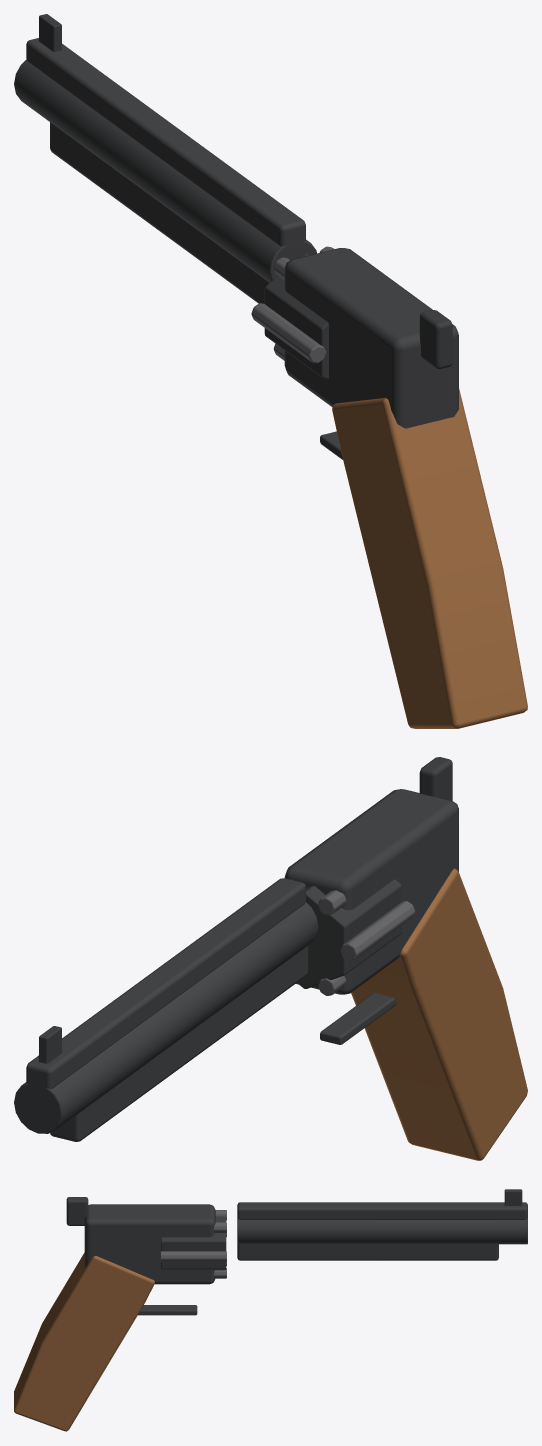
Rendered from magnum.glb.
The picture shows the model from 3 angles, top to bottom: view 1: azimuth 30°, elevation 25°; view 2: azimuth 150°, elevation 25°; view 3: azimuth 270°, elevation 25°; orthographic projection. The views are drawn at different scales.
Visible parts, largest first — view 1: Grip, Frame, Barrel, BarrelRib, Lug, Cylinder, Hammer, Flute3; view 2: Grip, Frame, Barrel, BarrelRib, Lug, Cylinder, TriggerGuard, Flute3, Hammer, FrontSight, Flute2; view 3: Grip, Frame, Barrel, BarrelRib, Lug, Cylinder, Flute0, TriggerGuard, Hammer, FrontSight.
Part boxes in pixels (<box>): Grip: <box>332,388,527,728</box>; Frame: <box>284,248,458,428</box>; Barrel: <box>14,59,316,282</box>; BarrelRib: <box>26,38,305,246</box>; Lug: <box>50,122,269,303</box>; Cylinder: <box>264,253,328,379</box>; Hammer: <box>419,310,452,368</box>; Flute3: <box>251,303,326,363</box>; Grip: <box>351,868,527,1160</box>; Frame: <box>284,789,458,994</box>; Barrel: <box>14,902,318,1133</box>; BarrelRib: <box>26,878,305,1088</box>; Lug: <box>50,946,308,1141</box>; Cylinder: <box>297,879,401,988</box>; TriggerGuard: <box>320,993,396,1044</box>; Flute3: <box>340,901,415,960</box>; Hammer: <box>419,757,452,800</box>; FrontSight: <box>39,1026,61,1063</box>; Flute2: <box>318,890,346,915</box>; Grip: <box>14,1252,154,1431</box>; Frame: <box>84,1204,215,1284</box>; Barrel: <box>237,1218,527,1244</box>; BarrelRib: <box>237,1202,527,1219</box>; Lug: <box>237,1243,498,1260</box>; Cylinder: <box>161,1216,226,1270</box>; Flute0: <box>160,1251,226,1261</box>; TriggerGuard: <box>138,1305,197,1315</box>; Hammer: <box>66,1197,88,1225</box>; FrontSight: <box>504,1189,522,1205</box>.
Bounding box in the file's own units: 0.0476 × 0.176 × 0.3537.
